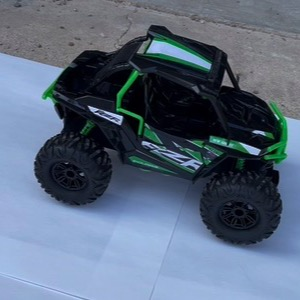polaris: (33, 25, 289, 249)
